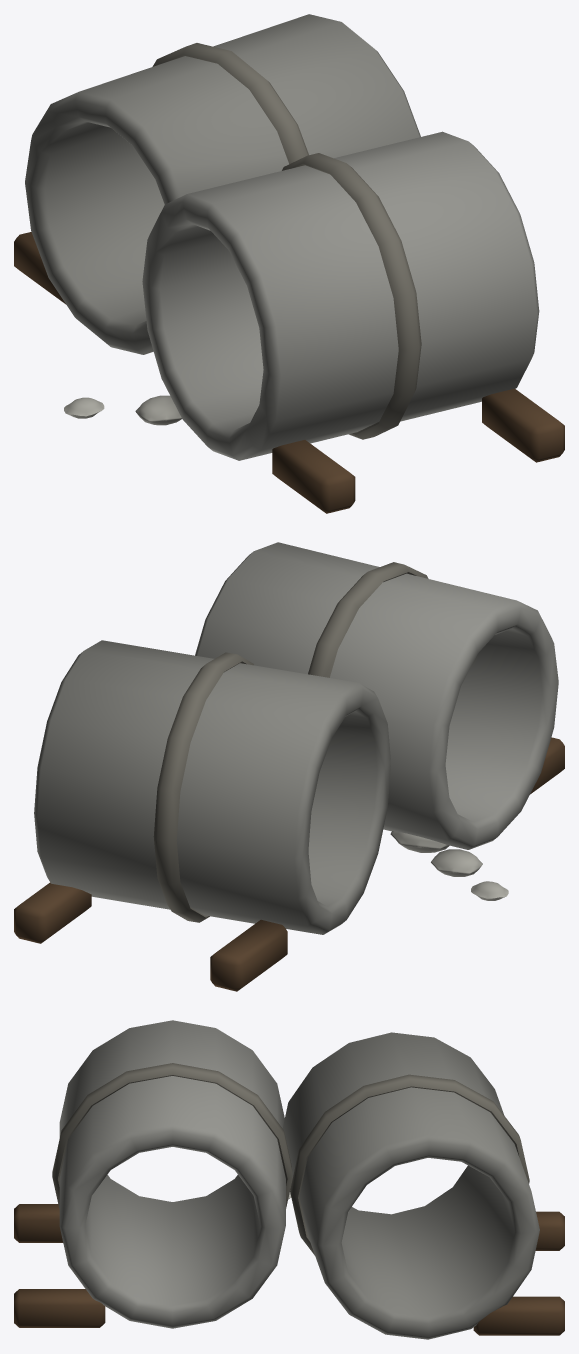
File: culvert_pipe_a.glb
The picture shows the model from 3 angles, top to bottom: view 1: azimuth 30°, elevation 25°; view 2: azimuth 150°, elevation 25°; view 3: azimuth 270°, elevation 25°; orthographic projection. The views are drawn at different scales.
Visible parts, largest first — view 1: Surface; view 2: Surface; view 3: Surface.
Boxes of the visible parts, <box> form: Surface: <box>14,14,564,513</box>; Surface: <box>14,542,564,991</box>; Surface: <box>14,1020,564,1339</box>.
Bounding box in the file's own units: 2.03 × 1.32 × 3.02.
